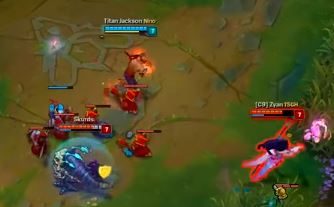bar: (56, 120, 113, 136), (102, 23, 158, 38), (248, 107, 306, 121)
